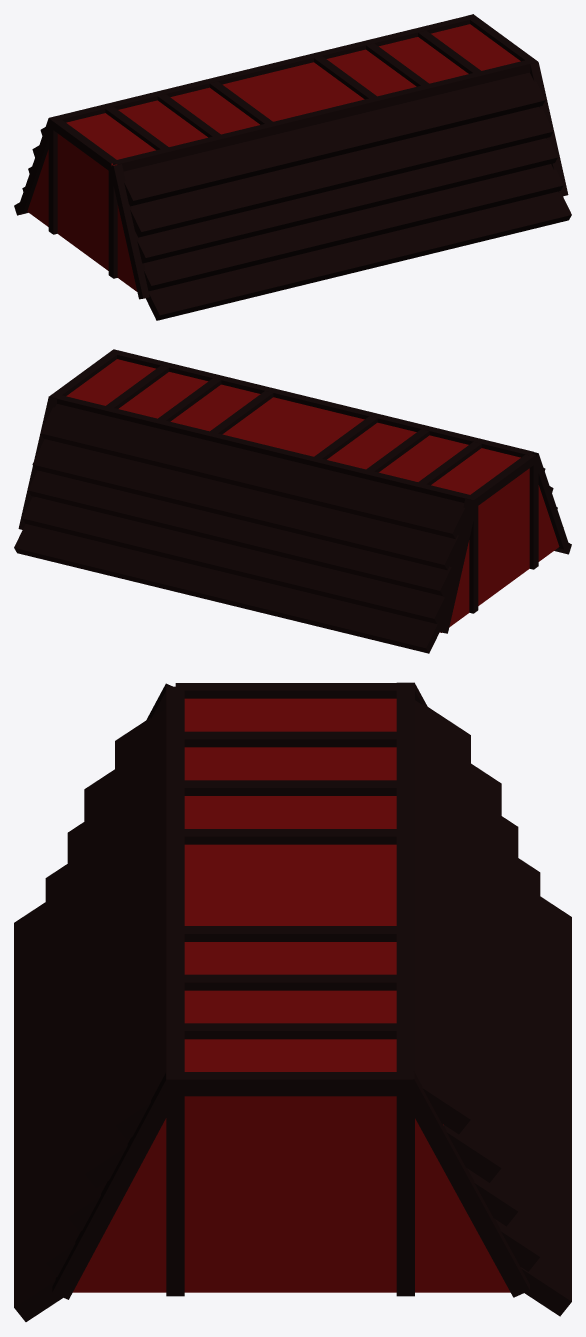
File: RoofA.fbx
The picture shows the model from 3 angles, top to bottom: view 1: azimuth 30°, elevation 25°; view 2: azimuth 150°, elevation 25°; view 3: azimuth 270°, elevation 25°; orthographic projection. The views are drawn at different scales.
Visible parts, largest first — view 1: RoofA; view 2: RoofA; view 3: RoofA.
Boxes of the visible parts, x1,y1,x2,y2 form: RoofA: [14, 14, 571, 320]; RoofA: [14, 349, 571, 653]; RoofA: [14, 682, 571, 1321].
Size of the model in its own units: 816 by 239 by 485.
